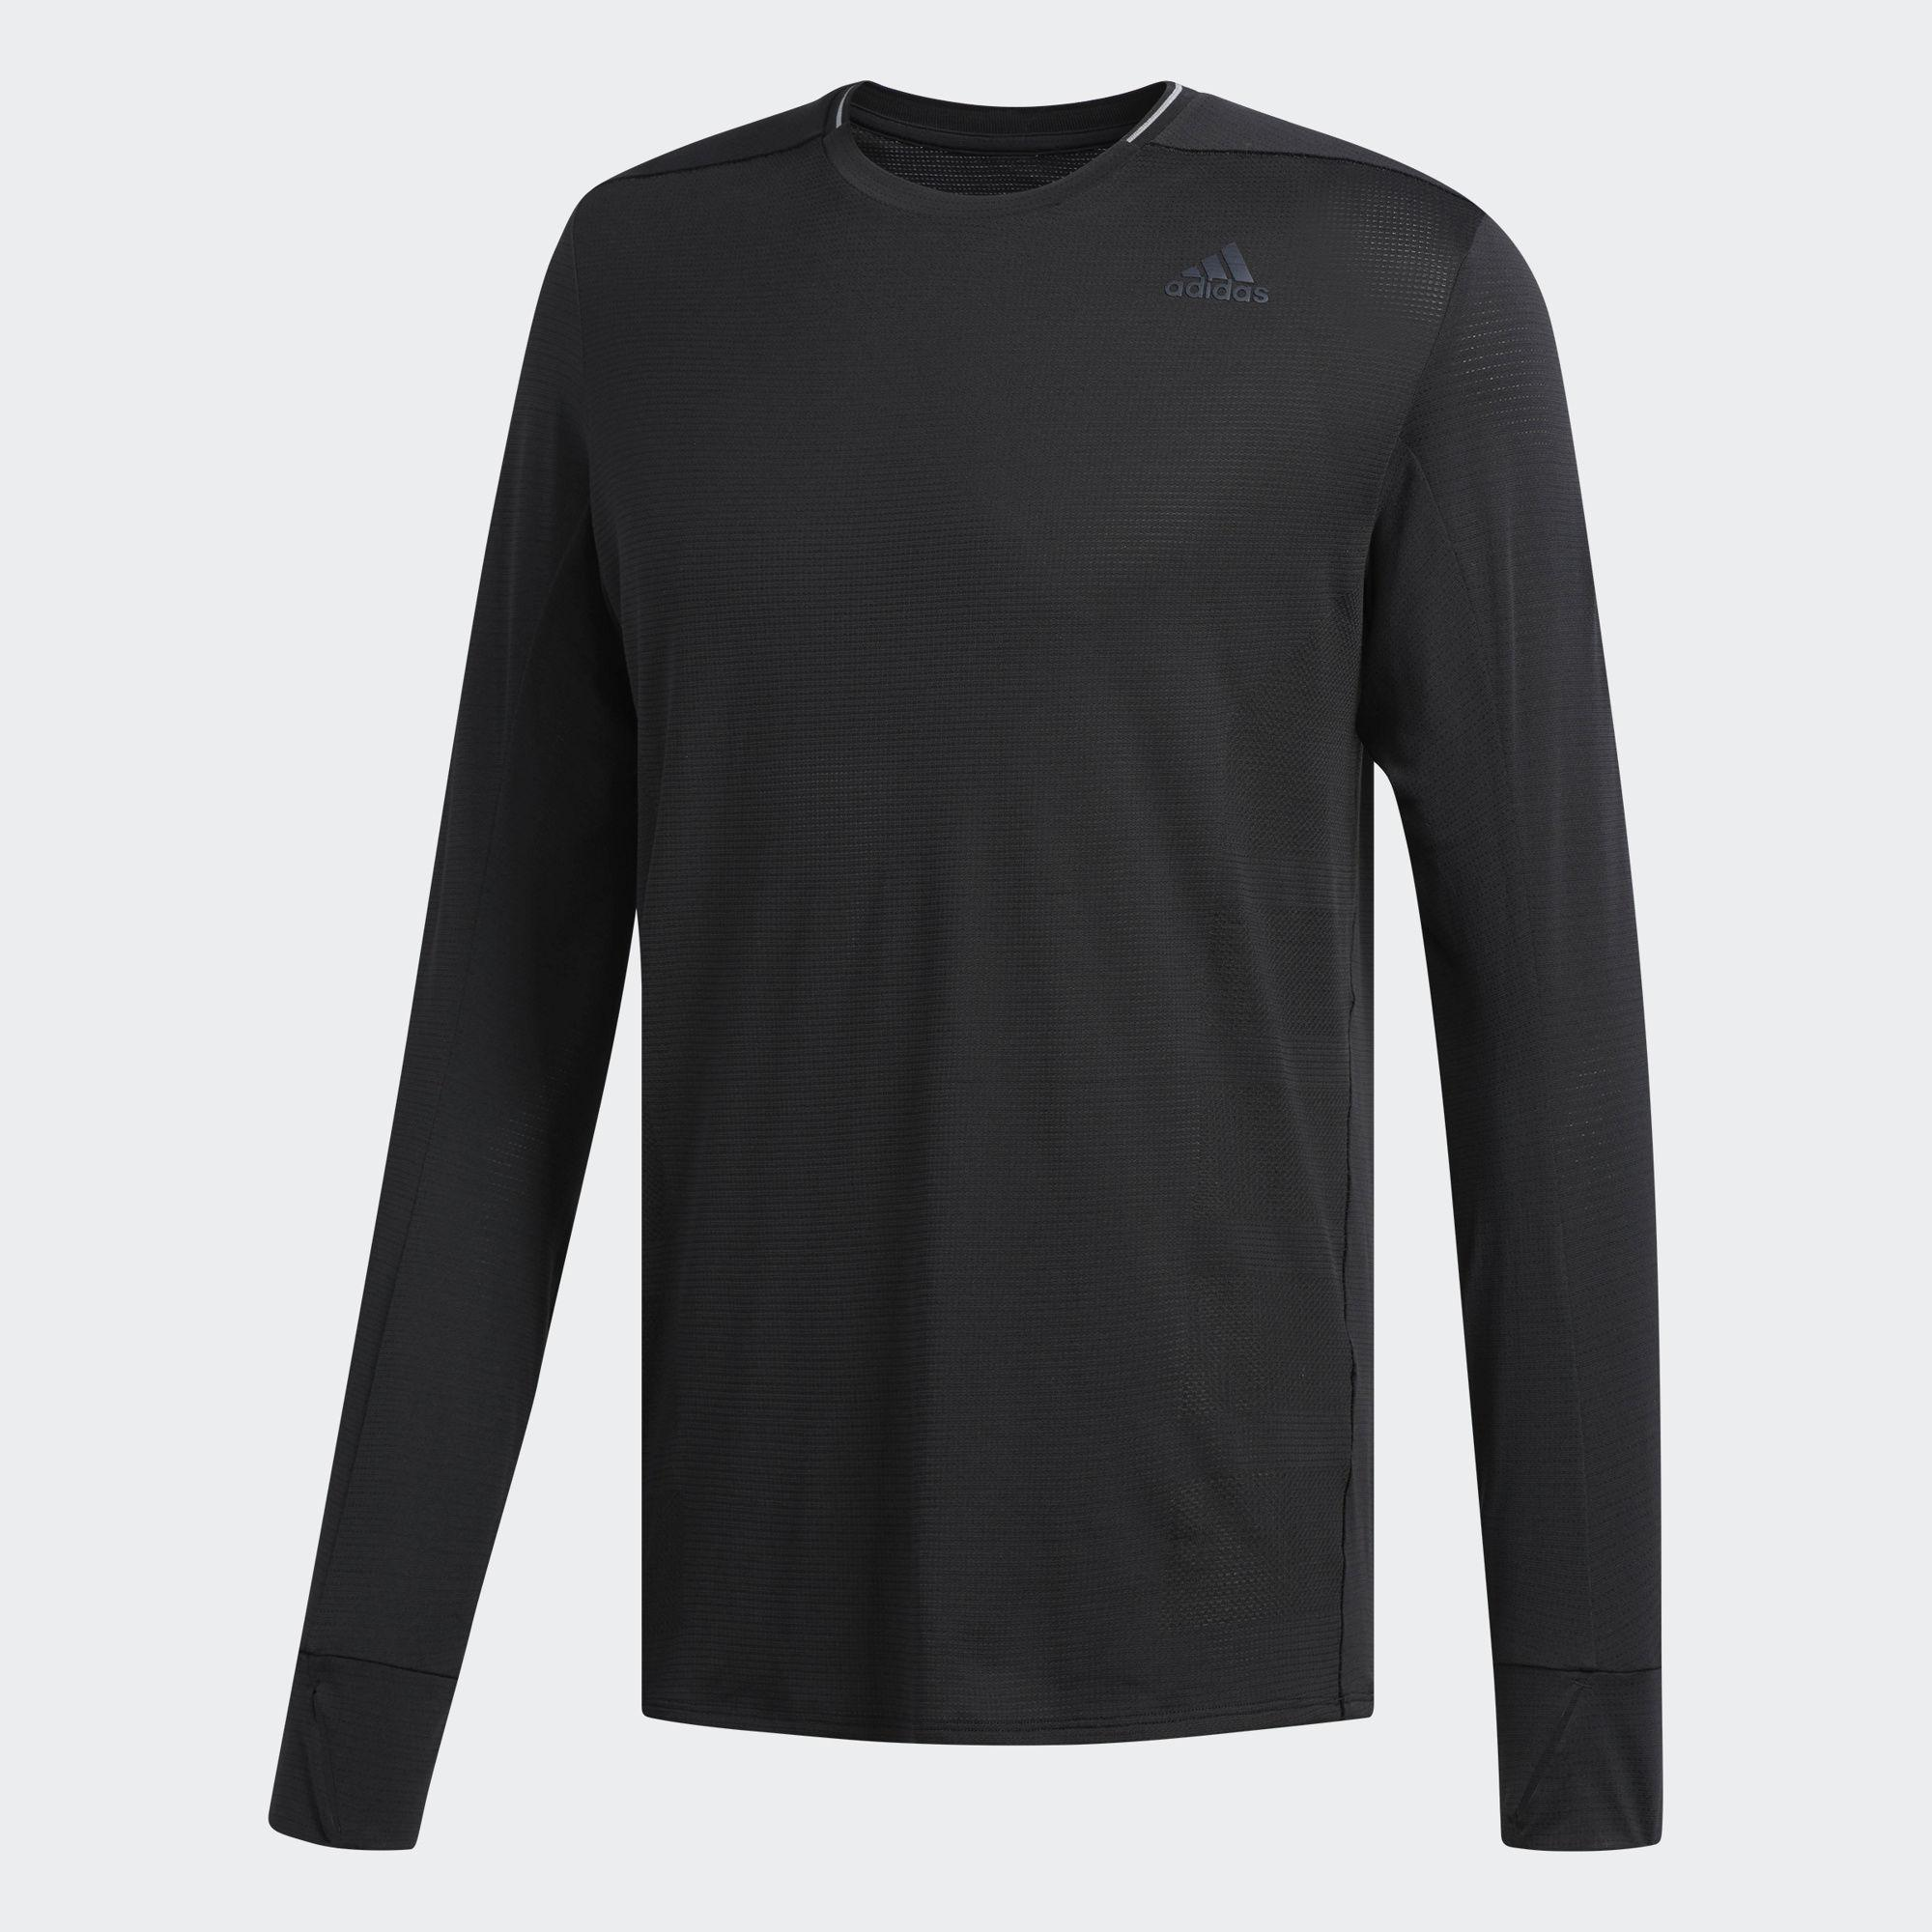teeshirt: (306, 69, 1755, 1897)
